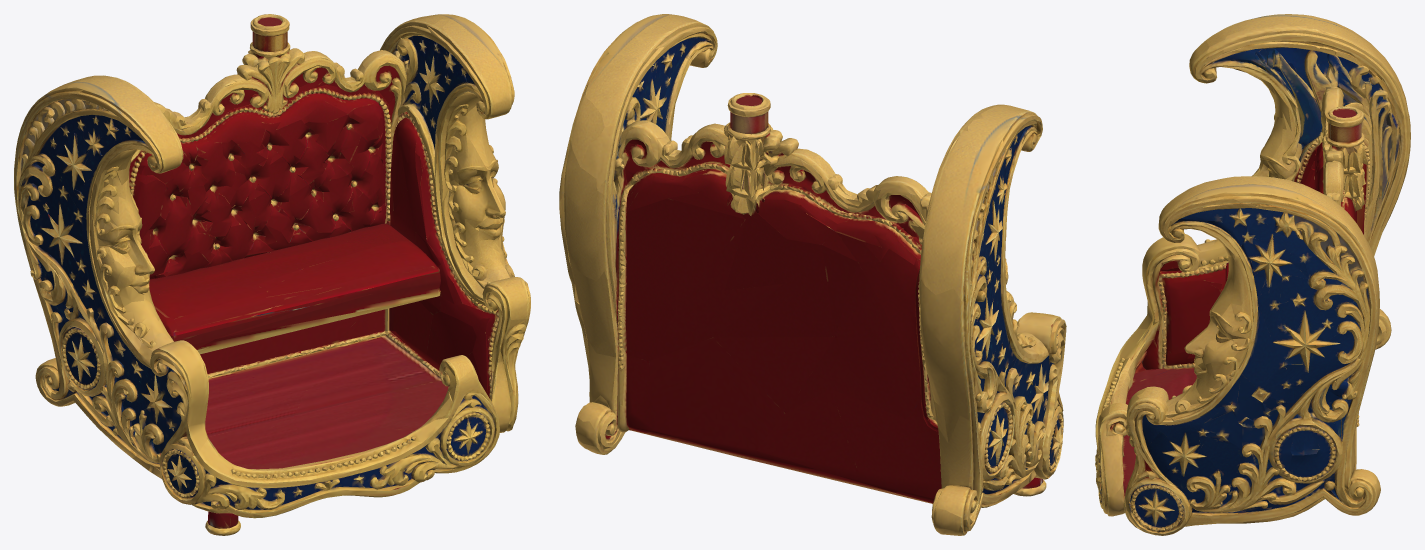
Rendered from moon-loveseat.glb.
3 views of the same model, side by side, from view 1: azimuth 30°, elevation 25°; view 2: azimuth 150°, elevation 25°; view 3: azimuth 270°, elevation 25° (orthographic). The views are drawn at different scales.
Size of the model in its own units: 1.9 by 1.82 by 1.35.
Materials: 1 (1 with a texture image).
